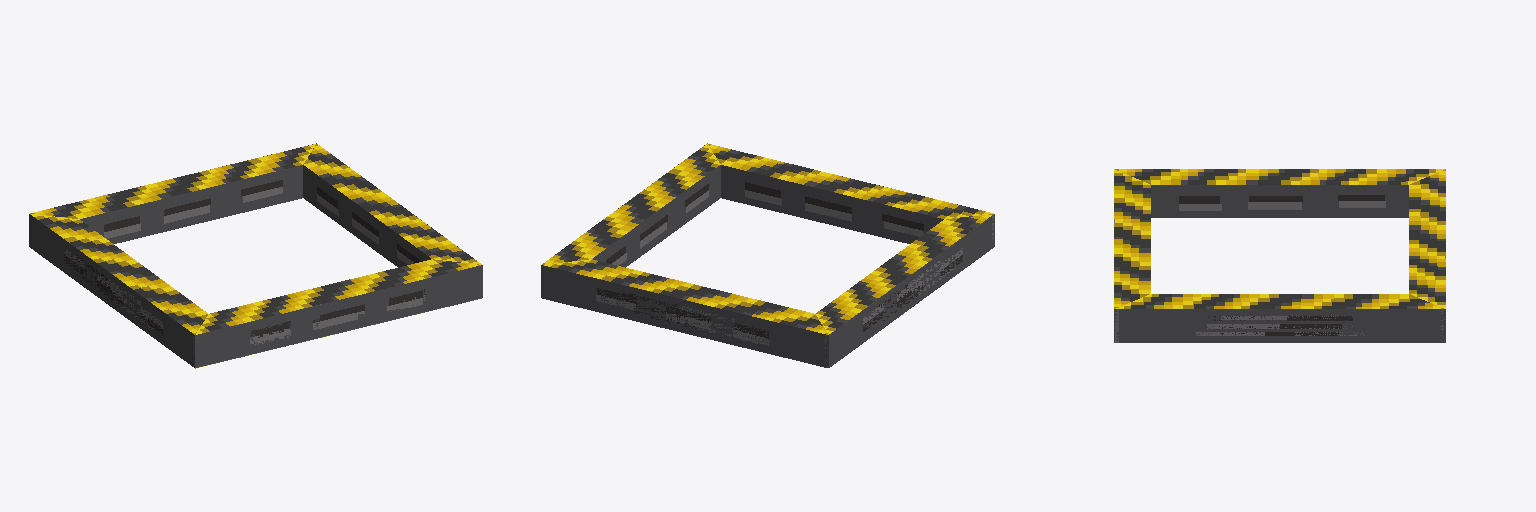
3 renders of one model, left to right at view 1: azimuth 30°, elevation 25°; view 2: azimuth 150°, elevation 25°; view 3: azimuth 270°, elevation 25°, orthographic.
Parts seen in each view (by area): view 1: Cube.003_Cube; view 2: Cube.003_Cube; view 3: Cube.003_Cube.
Part boxes in pixels (left/top/right/bottom): Cube.003_Cube: left=29, top=143, right=482, bottom=368; Cube.003_Cube: left=541, top=143, right=994, bottom=367; Cube.003_Cube: left=1114, top=169, right=1445, bottom=342.
Bounding box in the file's own units: 9 × 1 × 9.
Materials: 1 (1 with a texture image).